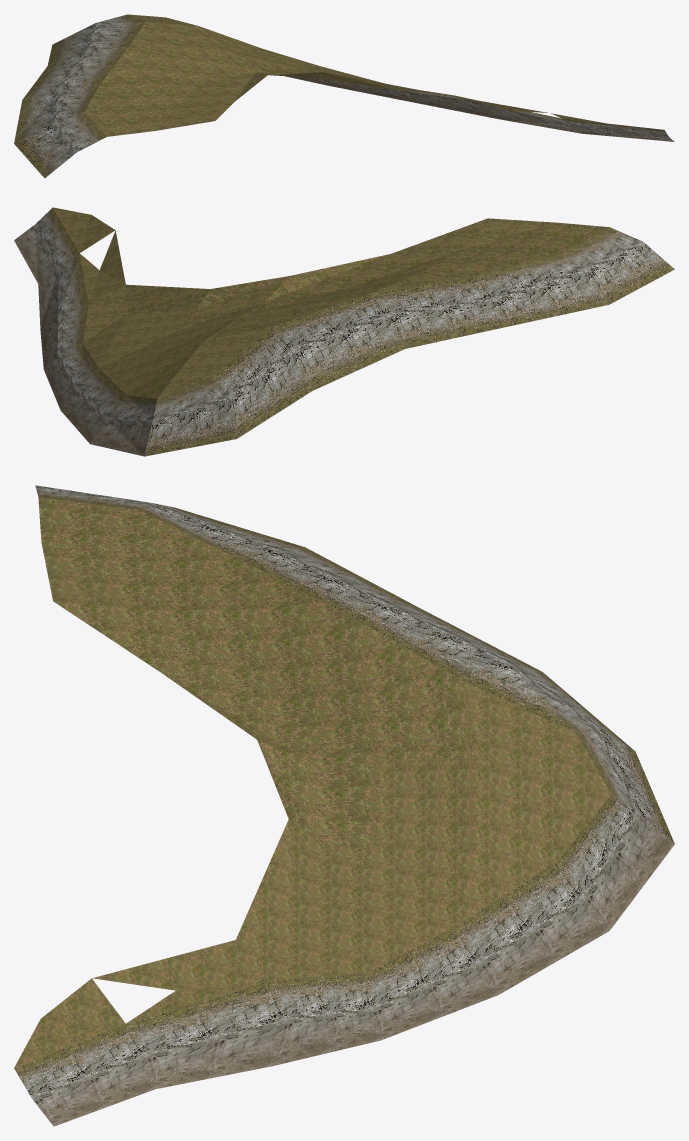
The model's file is cuntwland77b.obj.
3 views of the same model, one above another, from view 1: azimuth 30°, elevation 25°; view 2: azimuth 150°, elevation 25°; view 3: azimuth 270°, elevation 25° (orthographic). The views are drawn at different scales.
Parts seen in each view (by area): view 1: cuntwland77b; view 2: cuntwland77b; view 3: cuntwland77b.
Boxes of the visible parts, left/top/right/bottom form: cuntwland77b: left=14, top=14, right=674, bottom=178; cuntwland77b: left=14, top=207, right=674, bottom=456; cuntwland77b: left=14, top=485, right=674, bottom=1126.
Size of the model in its own units: 308 by 73.38 by 189.
